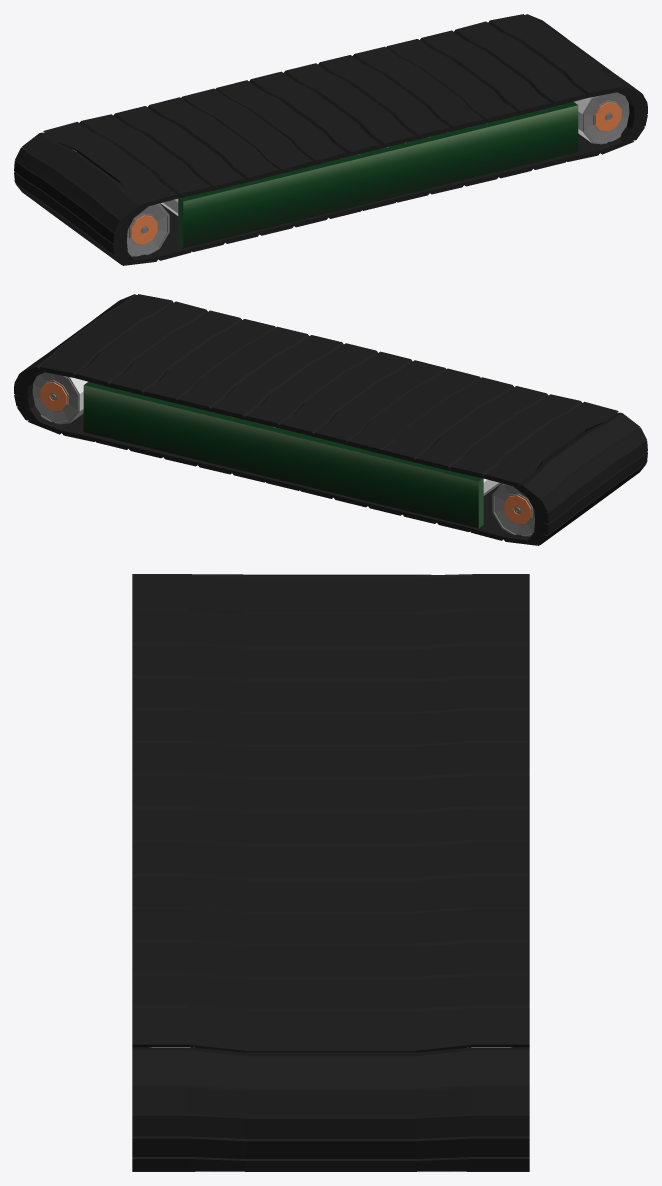
File: Conveyor_Belt.fbx
3 renders of one model, top to bottom at view 1: azimuth 30°, elevation 25°; view 2: azimuth 150°, elevation 25°; view 3: azimuth 270°, elevation 25°, orthographic. The views are drawn at different scales.
Visible parts, largest first — view 1: Plate, Conveyor_Belt; view 2: Plate, Conveyor_Belt; view 3: Plate.
Boxes of the visible parts, box(x1,y1,x2,y2) form: Plate: box(14, 14, 647, 265); Conveyor_Belt: box(74, 92, 629, 256); Plate: box(14, 294, 647, 545); Conveyor_Belt: box(32, 372, 534, 536); Plate: box(132, 574, 529, 1171).
Size of the model in its own units: 621 by 71.83 by 200.
2 materials, 2 textured.
